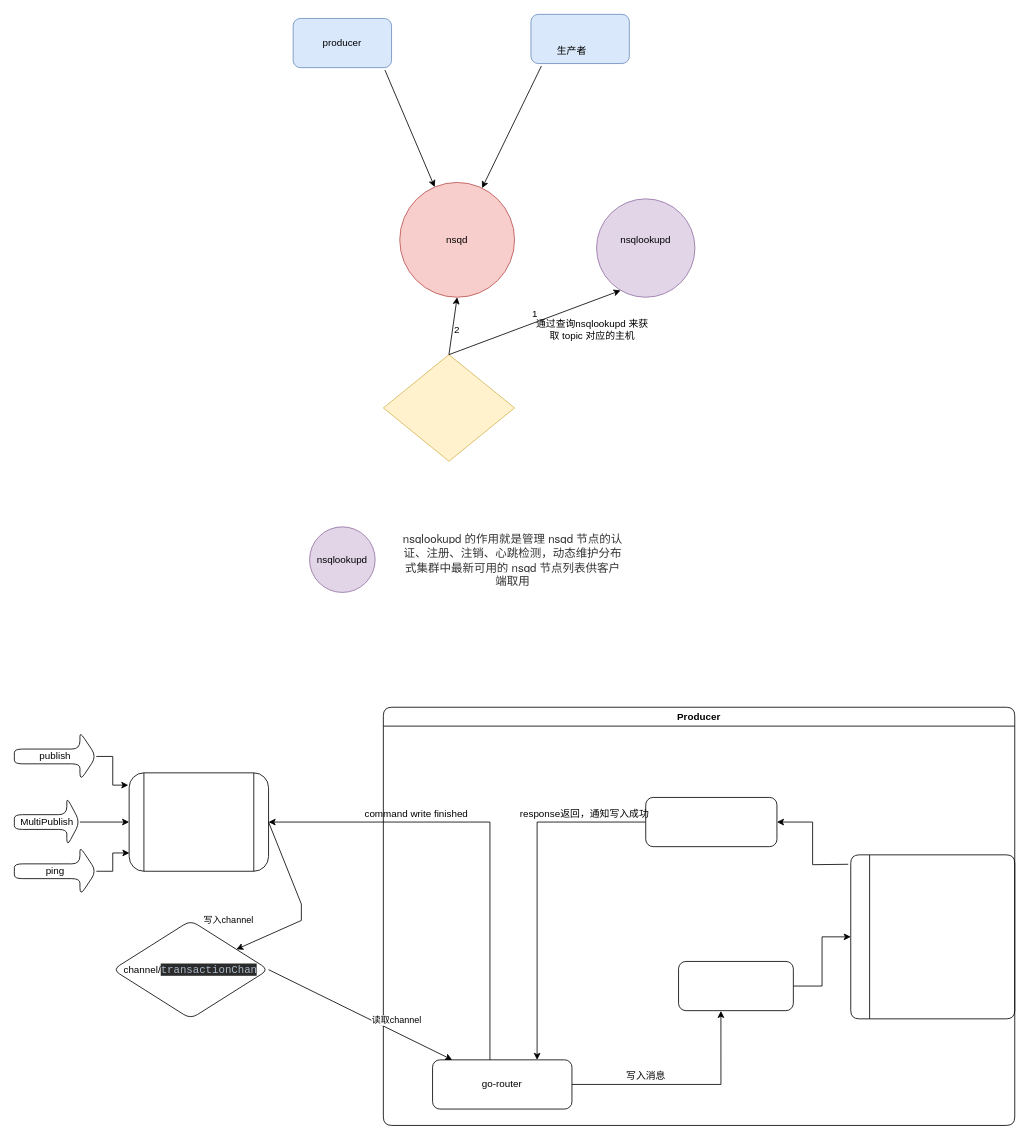
The diagram is 1029 pixels wide and 1140 high, and some of its shapes have lost their labels. The centre of each missing label's shape, as x and y in pixels:
"go- readLoop" goes at pixel 711 822.
"go- writeLoop" goes at pixel 735 986.
"sendCommandSync" goes at pixel 198 821.
"TCP Conn" goes at pixel 932 936.
"消费者" goes at pixel 449 407.
